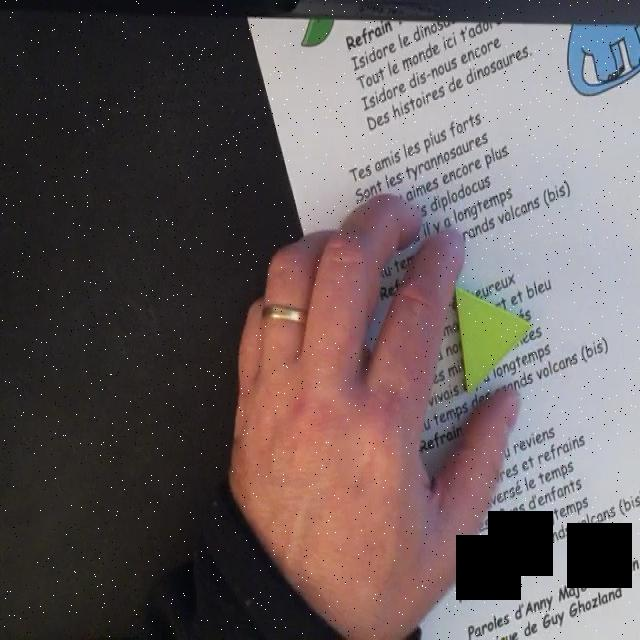triangle: (453, 282, 534, 396)
